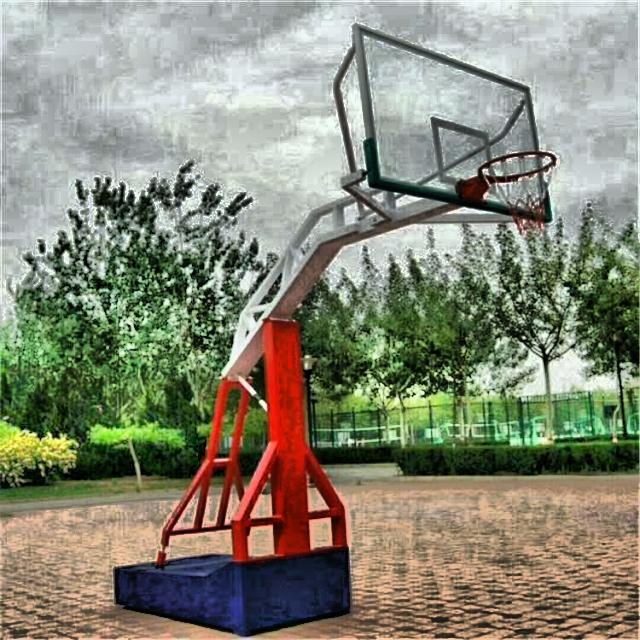rim: (479, 150, 559, 234)
